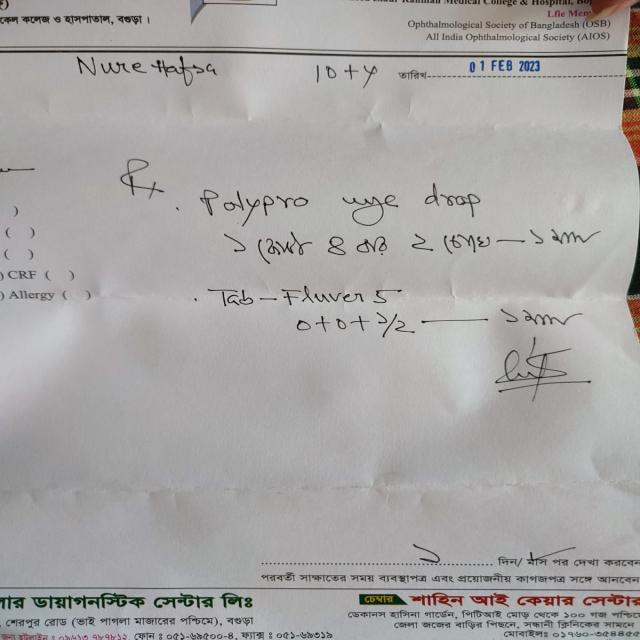Fluver: (278, 280, 372, 310)
Polypro: (190, 181, 321, 228)
